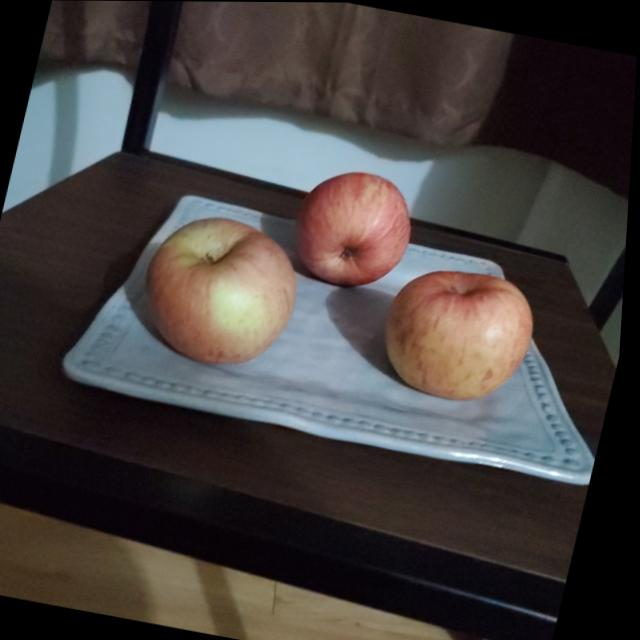apple: (130, 205, 313, 371), (372, 256, 544, 409), (288, 163, 427, 298)
